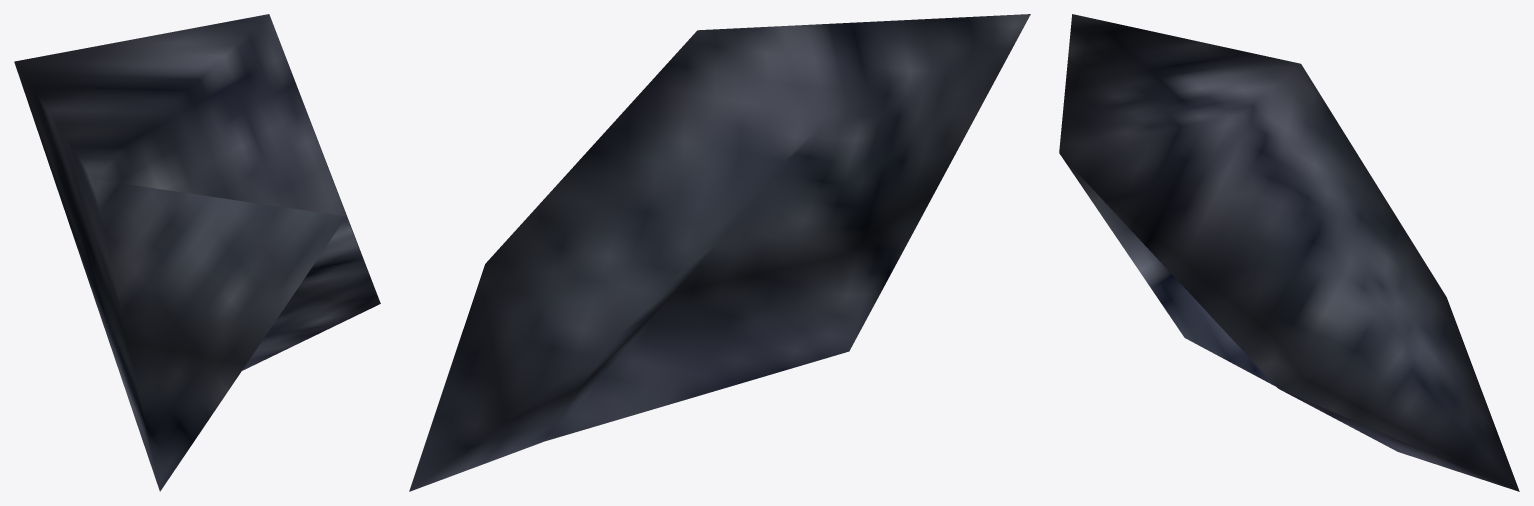
Rendered from nar_condra_7_stone_4.glb.
3 renders of one model, left to right at view 1: azimuth 30°, elevation 25°; view 2: azimuth 150°, elevation 25°; view 3: azimuth 270°, elevation 25°, orthographic. The views are drawn at different scales.
Visible parts, largest first — view 1: model_nar_condra_7_stone_4; view 2: model_nar_condra_7_stone_4; view 3: model_nar_condra_7_stone_4.
Part boxes in pixels (bbox=[...]): model_nar_condra_7_stone_4: bbox=[14, 14, 380, 491]; model_nar_condra_7_stone_4: bbox=[409, 14, 1030, 491]; model_nar_condra_7_stone_4: bbox=[1059, 14, 1519, 491].
Size of the model in its own units: 0.124 by 0.1231 by 0.158.
Materials: 1 (1 with a texture image).
